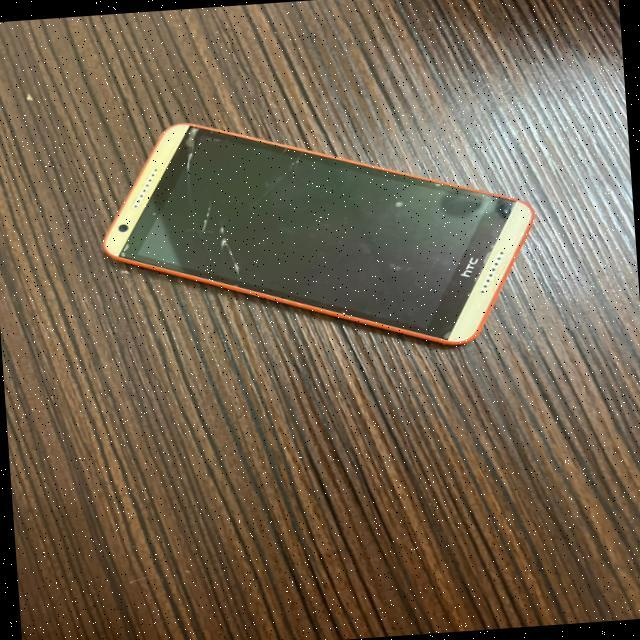phone good: (90, 99, 557, 356)
